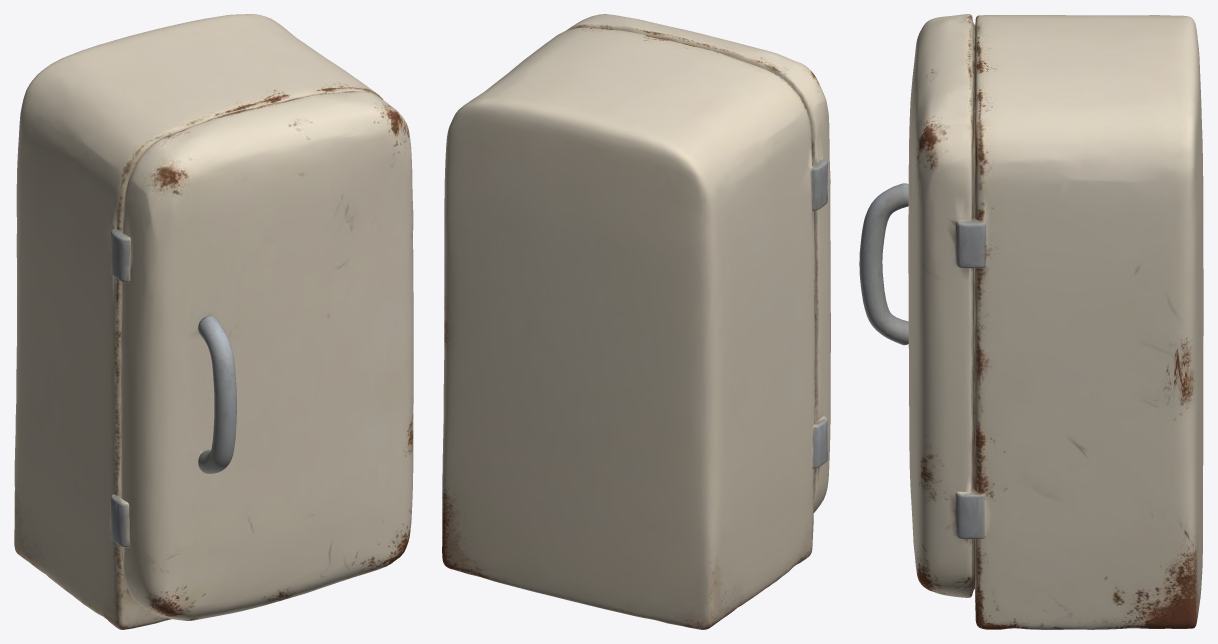
File: fridge_elektricheskiy.glb
3 renders of one model, left to right at view 1: azimuth 30°, elevation 25°; view 2: azimuth 150°, elevation 25°; view 3: azimuth 270°, elevation 25°, orthographic. The views are drawn at different scales.
Parts seen in each view (by area): view 1: door, body; view 2: body, door; view 3: body, door.
Part boxes in pixels (x1,y1,x2,y2): door: [113, 91, 413, 620]; body: [14, 14, 392, 629]; body: [442, 27, 822, 629]; door: [566, 14, 830, 512]; body: [974, 15, 1203, 629]; door: [859, 14, 973, 597].
Size of the model in its own units: 1.1 by 1.8 by 1.1.
10 materials, 3 textured.
